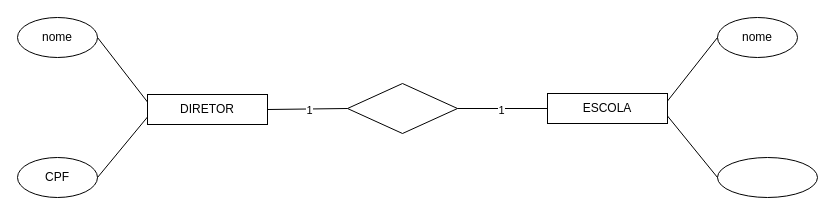
The diagram is 835 pixels wide and 215 high, and some of its shapes have lost their labels. Each missing label, with the centre of its shape:
CNPJ: pixel 767 177
GERENCIA: pixel 402 108
